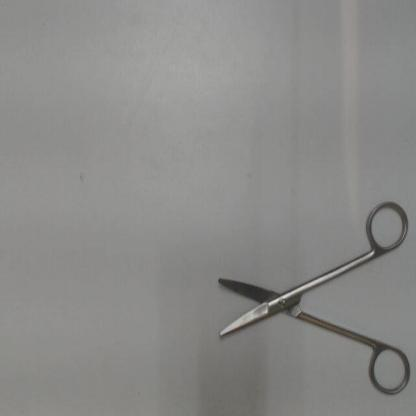Curved Mayo Scissors: (212, 192, 415, 403)
